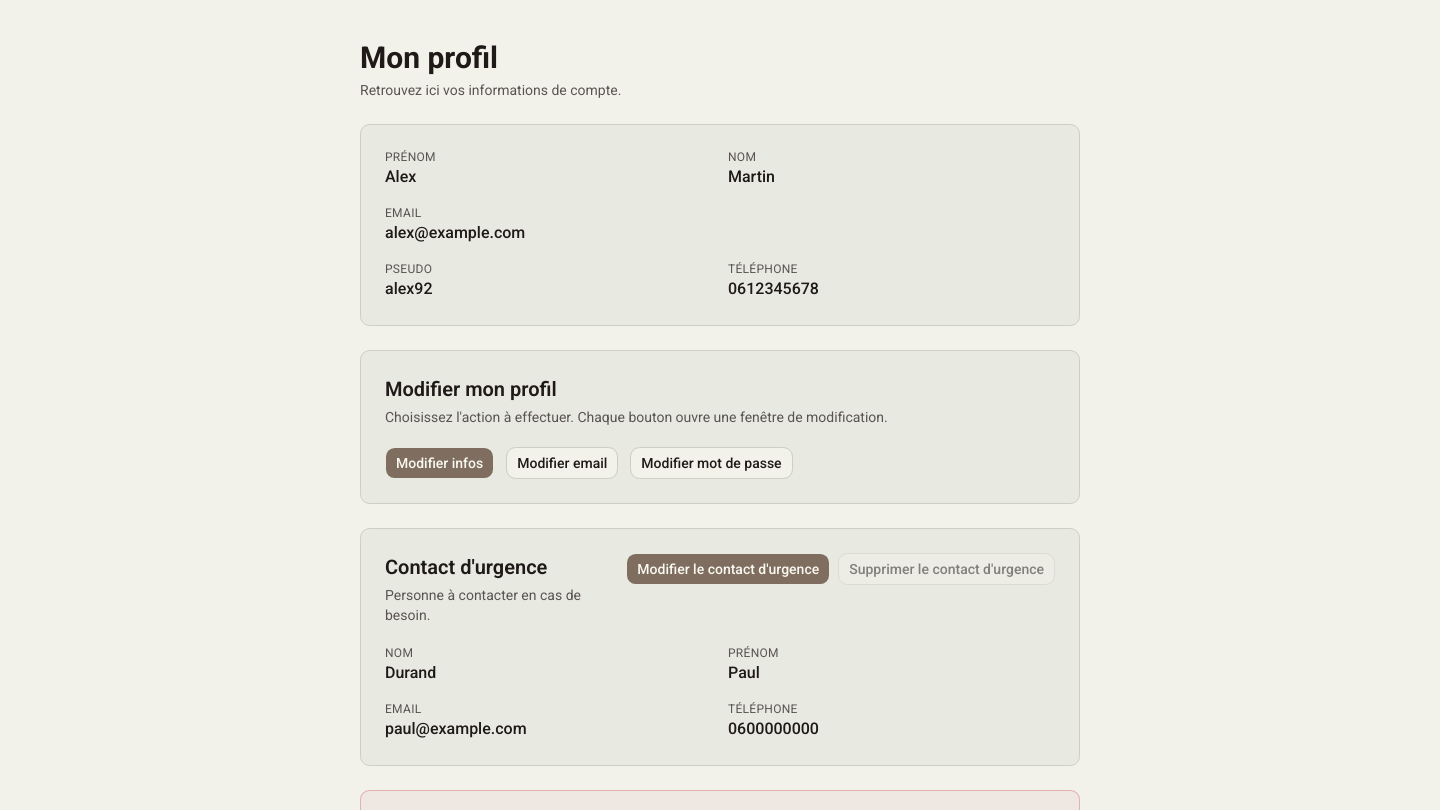
Test: ProfilePage › prevents a minor from removing emergency contact
Expected: the heading "Mon profil" is shown, [360, 40, 498, 75]
Expected: the button "Supprimer le contact d'urgence" is disabled, [838, 553, 1055, 585]
Click the button "Modifier le contact d'urgence".
click(728, 569)  # box [626, 553, 830, 585]
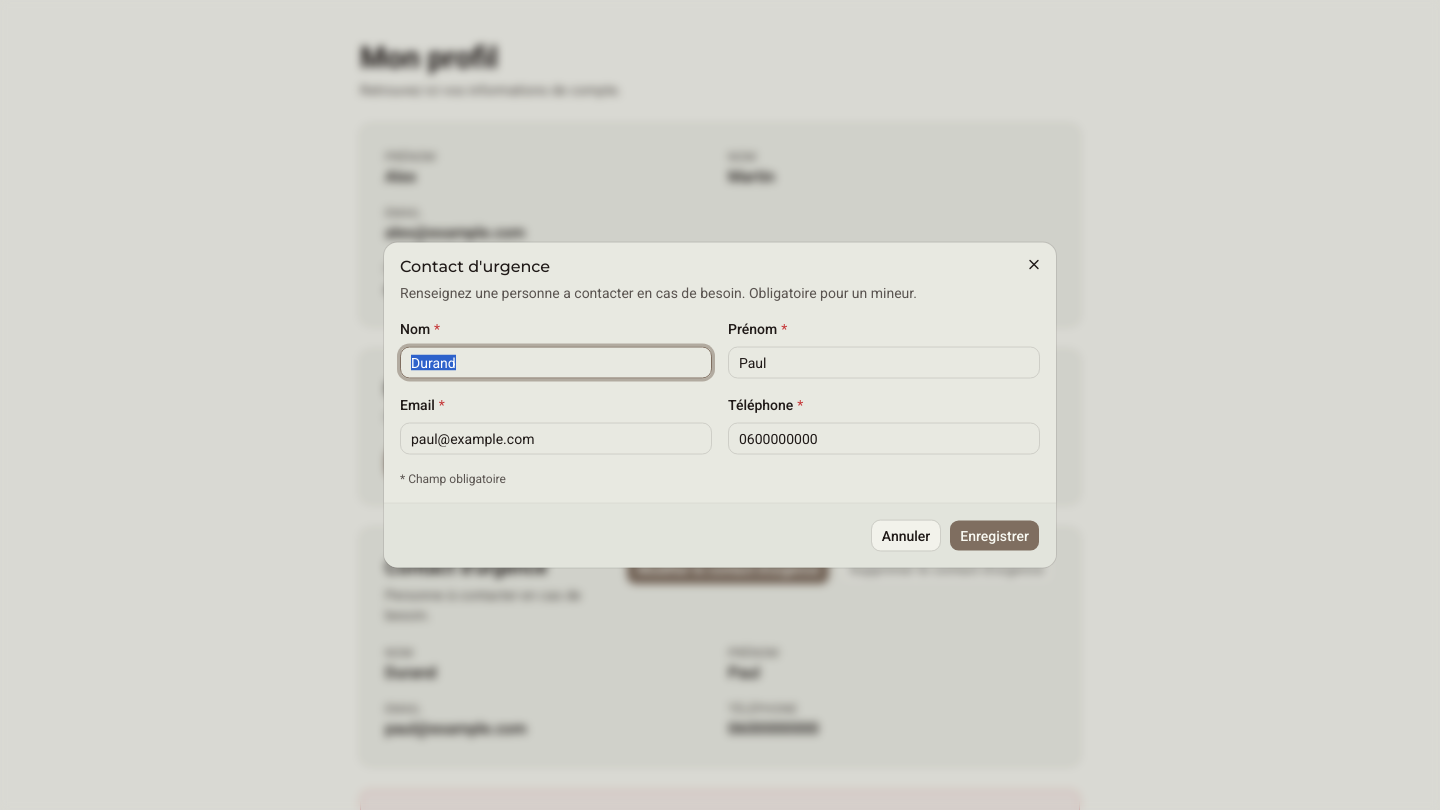
Clear the field labelled "Nom" at (556,362), box [400, 346, 712, 378]
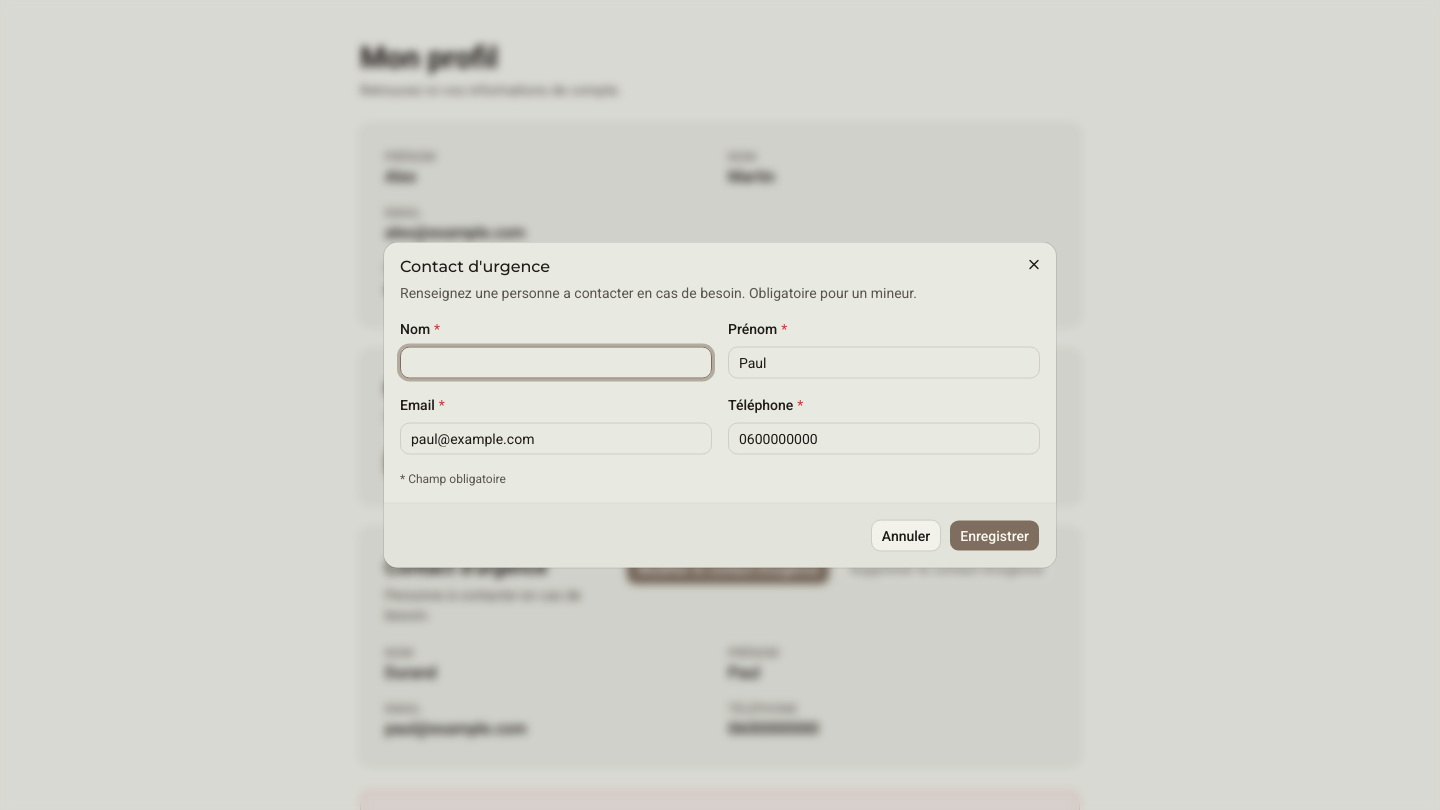
Clear the field labelled "Prénom" at (884,362), box [728, 346, 1040, 378]
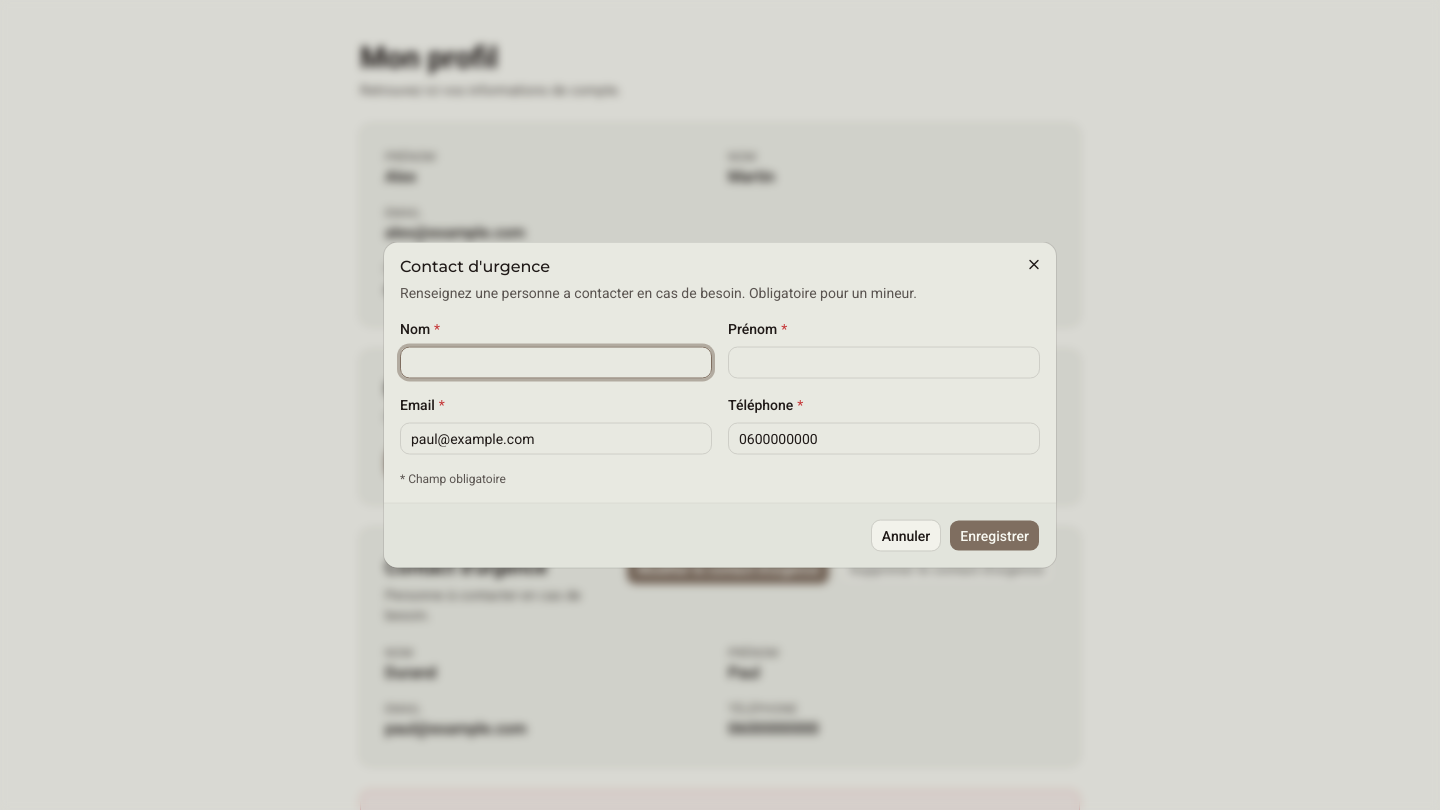
Clear the field labelled "Email" at (556,438), box [400, 422, 712, 454]
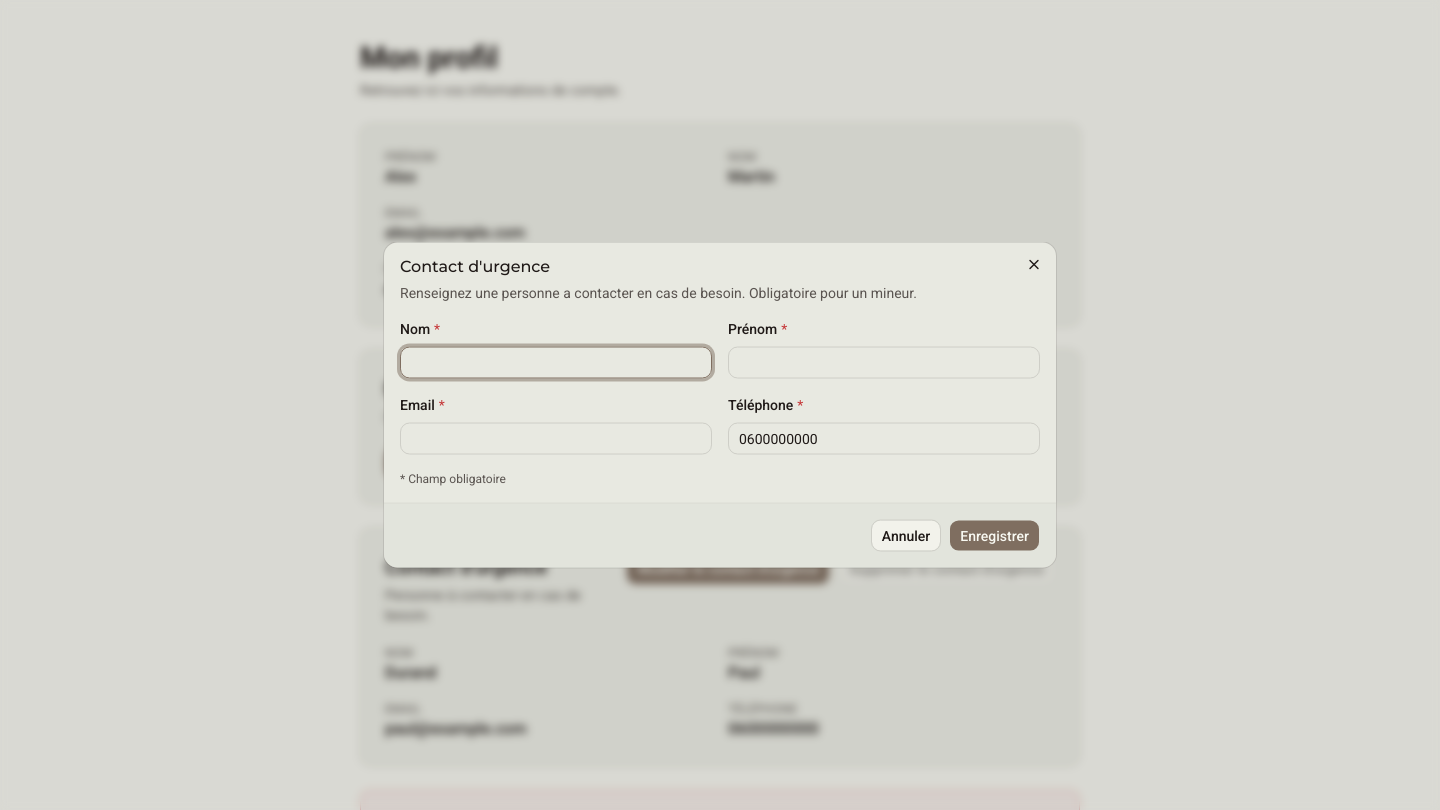
Clear the field labelled "Téléphone" at (884,438), box [728, 422, 1040, 454]
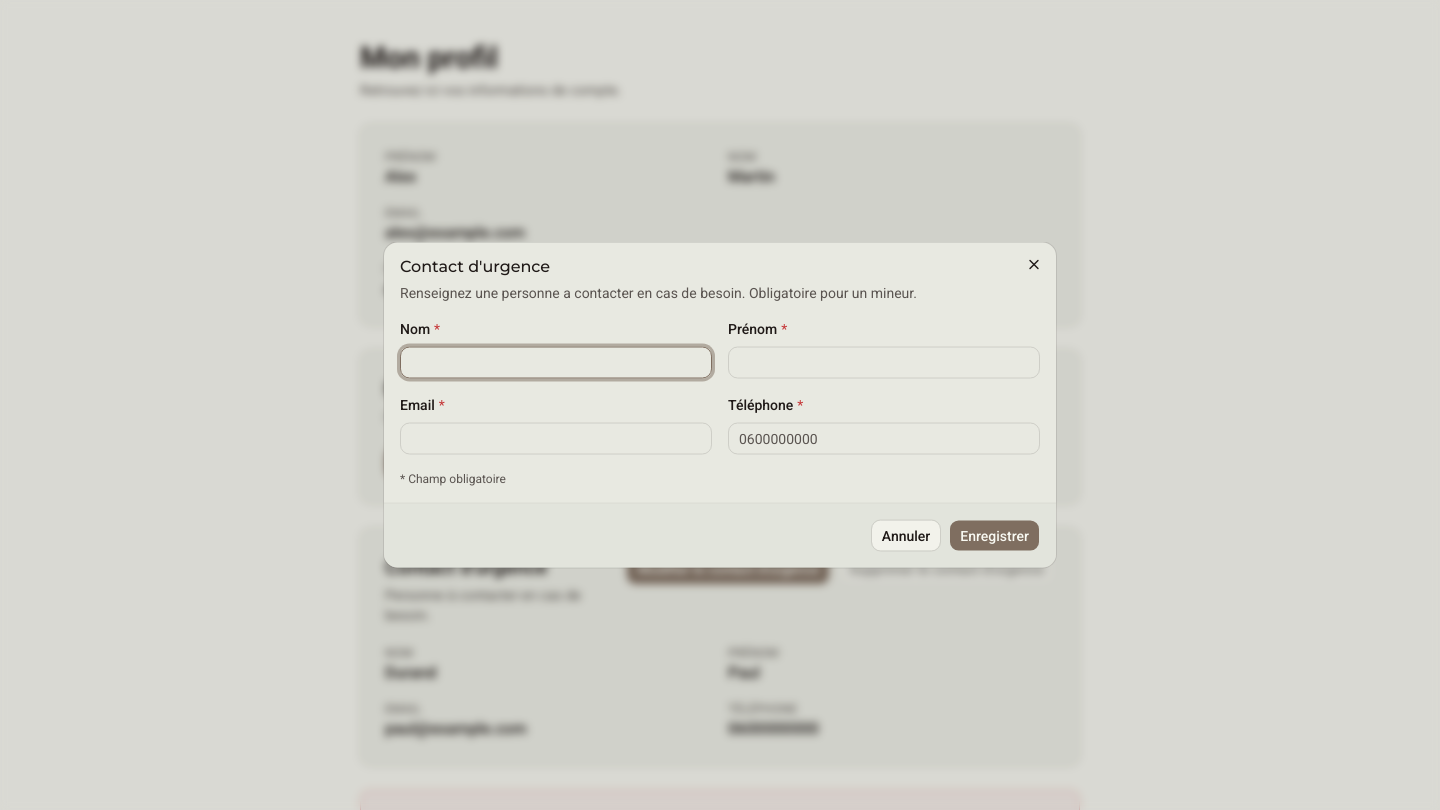
Click the button "Enregistrer".
click(995, 536)  # box [949, 520, 1040, 552]
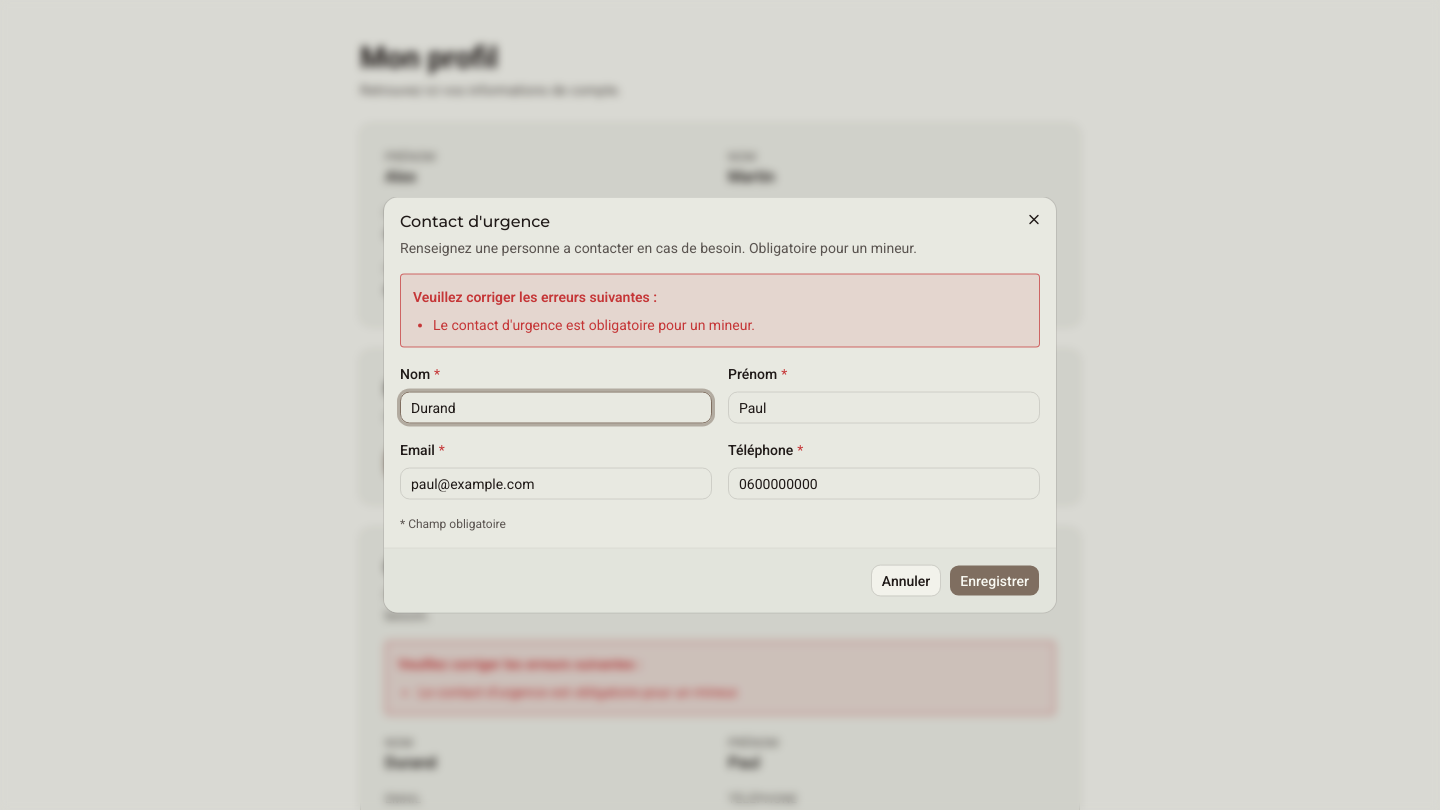
Now the list item "Le contact d'urgence est obligatoire pour un mineur." below "Personne à contacter en cas de besoin." is shown, box [418, 684, 740, 700]
